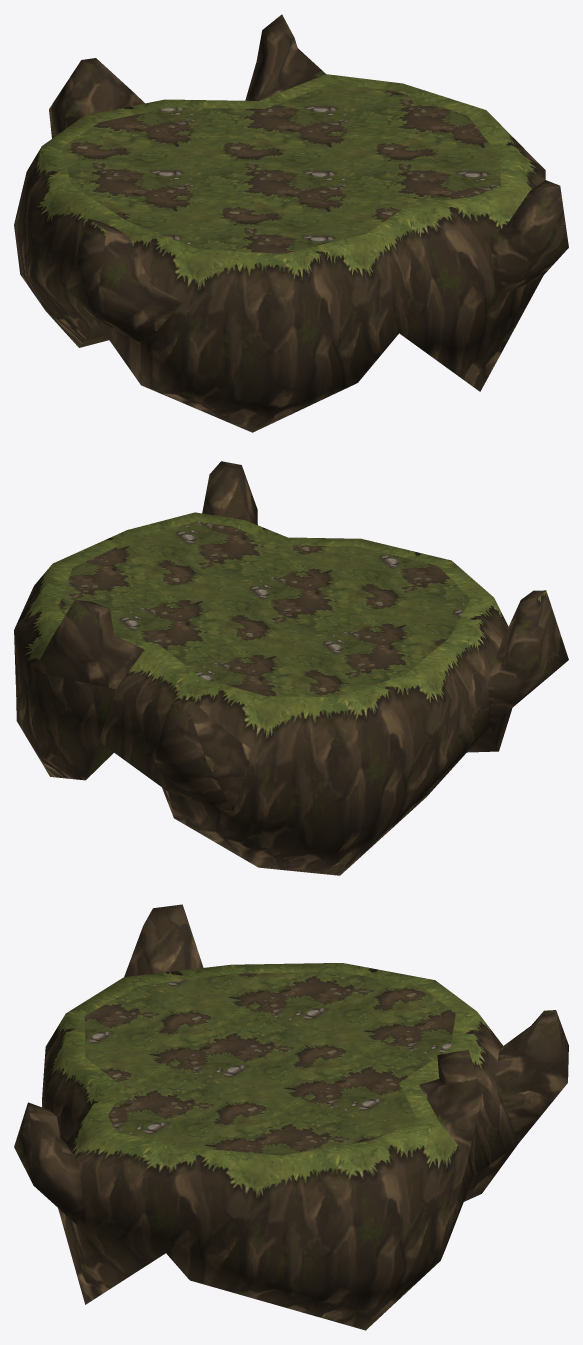
Rendered from F2_dixing_01.FBX.
3 renders of one model, top to bottom at view 1: azimuth 30°, elevation 25°; view 2: azimuth 150°, elevation 25°; view 3: azimuth 270°, elevation 25°, orthographic. The views are drawn at different scales.
Parts seen in each view (by area): view 1: Cylinder05, 对象08; view 2: Cylinder05, 对象08; view 3: Cylinder05, 对象08.
Part boxes in pixels (x1,y1,x2,y2): Cylinder05: [14, 14, 568, 432]; 对象08: [61, 83, 500, 253]; Cylinder05: [14, 461, 568, 875]; 对象08: [59, 521, 470, 696]; Cylinder05: [14, 904, 568, 1330]; 对象08: [84, 971, 455, 1155].
Bounding box in the file's own units: 1132 × 567 × 1110.
